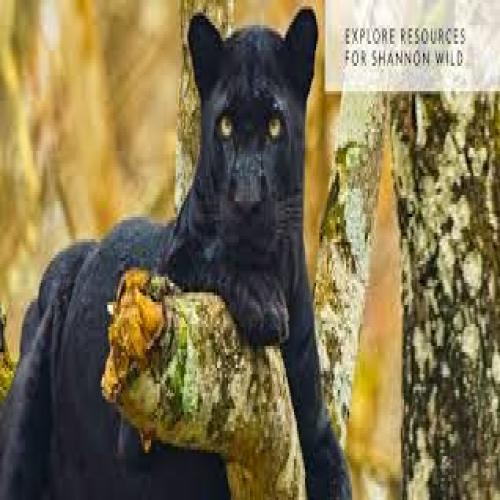panther-endangered: (0, 3, 351, 500)
